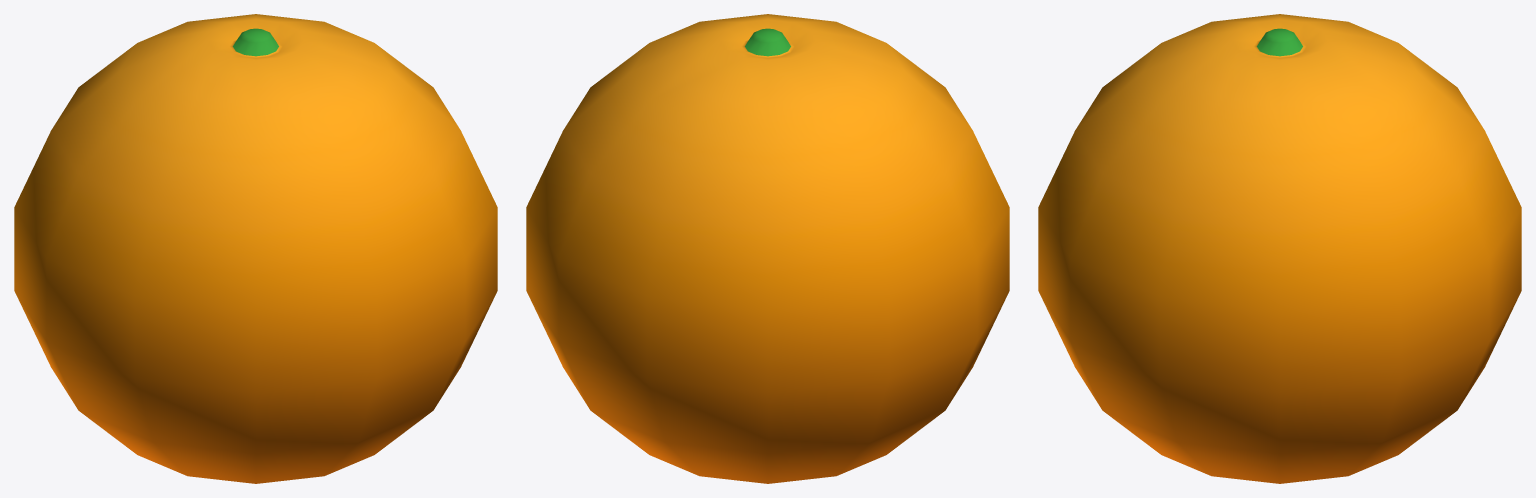
Rendered from Orange.fbx.
The picture shows the model from 3 angles, left to right: view 1: azimuth 30°, elevation 25°; view 2: azimuth 150°, elevation 25°; view 3: azimuth 270°, elevation 25°; orthographic projection.
Visible parts, largest first — view 1: Orange; view 2: Orange; view 3: Orange.
Boxes of the visible parts, box(x1,y1,x2,y2) form: Orange: box(14, 14, 497, 483); Orange: box(526, 14, 1009, 483); Orange: box(1038, 14, 1521, 483).
Size of the model in its own units: 169 by 164 by 169.
